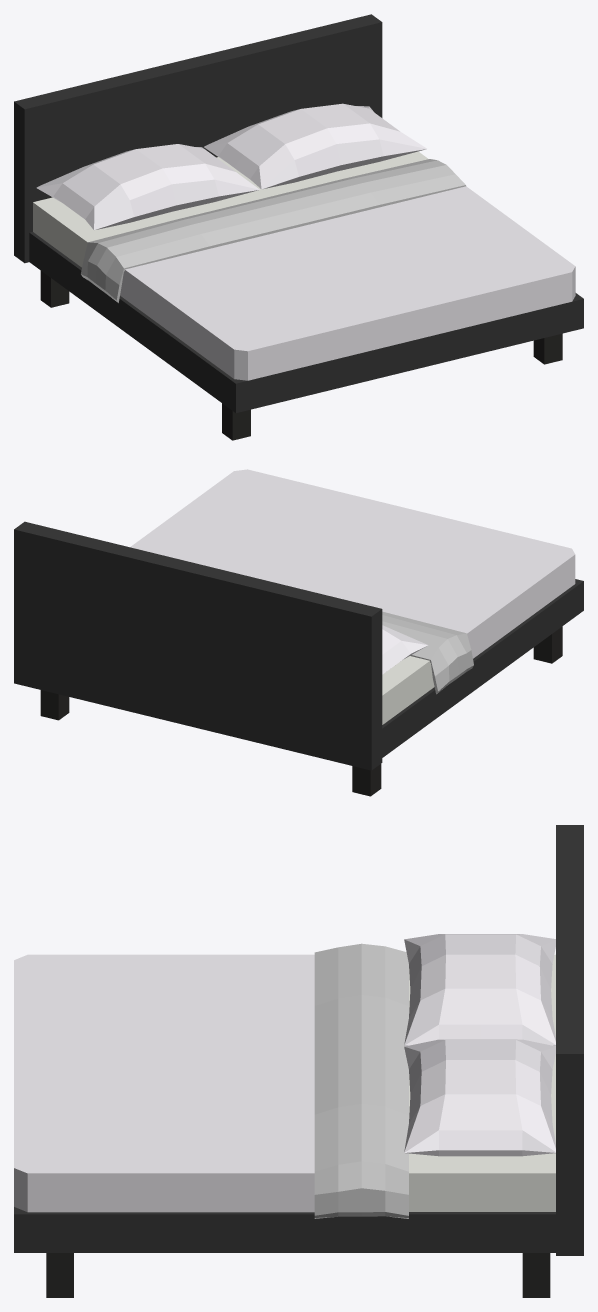
Rendered from Bed_1A.fbx.
The picture shows the model from 3 angles, top to bottom: view 1: azimuth 30°, elevation 25°; view 2: azimuth 150°, elevation 25°; view 3: azimuth 270°, elevation 25°; orthographic projection. The views are drawn at different scales.
Parts seen in each view (by area): view 1: polySurface1556; view 2: polySurface1556; view 3: polySurface1556.
Part boxes in pixels (left/top/right/bottom): polySurface1556: left=14, top=14, right=583, bottom=440; polySurface1556: left=14, top=469, right=583, bottom=796; polySurface1556: left=14, top=825, right=583, bottom=1297.
Size of the model in its own units: 3.84 by 1.96 by 4.
1 material, 1 textured.
